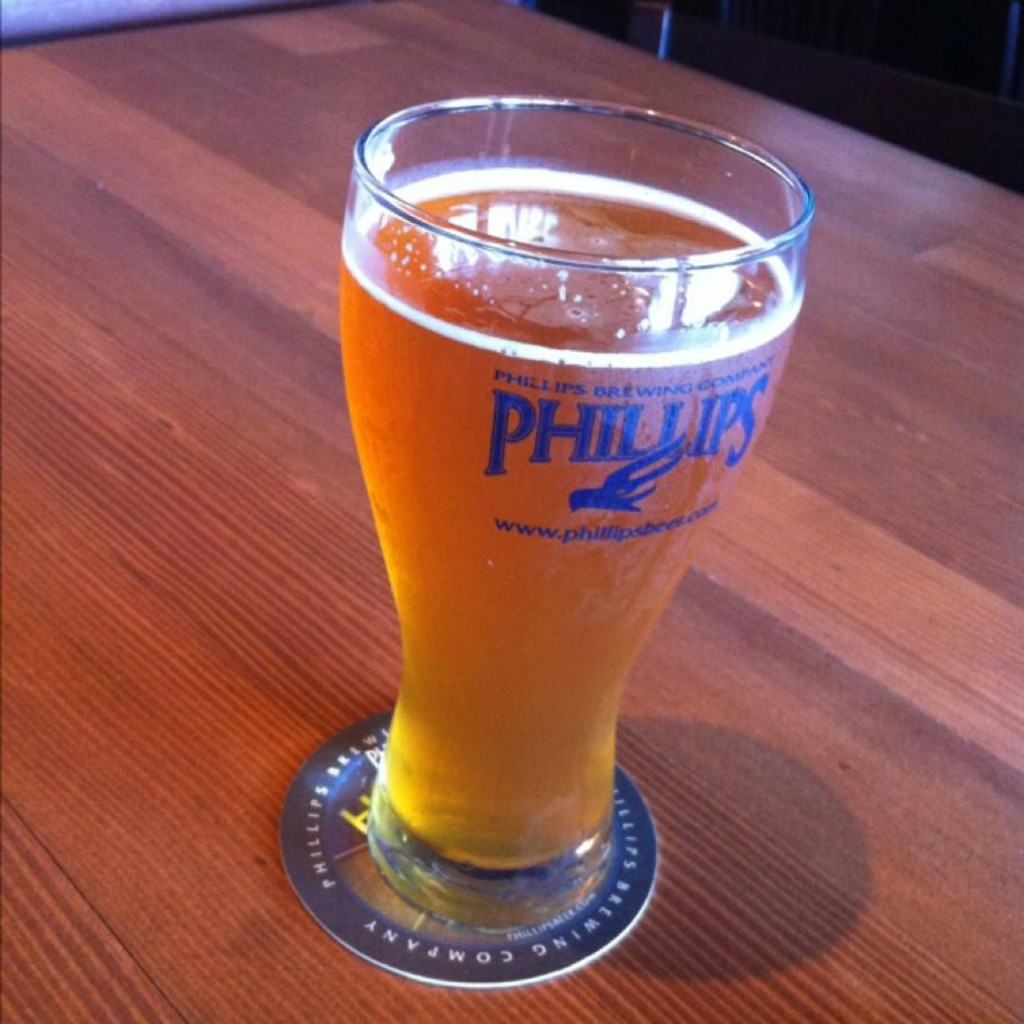Beer: (342, 176, 800, 866)
